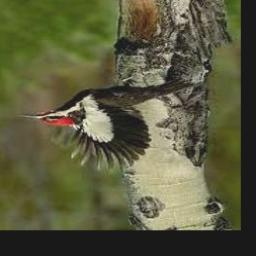Woodpecker: (18, 77, 201, 172)
